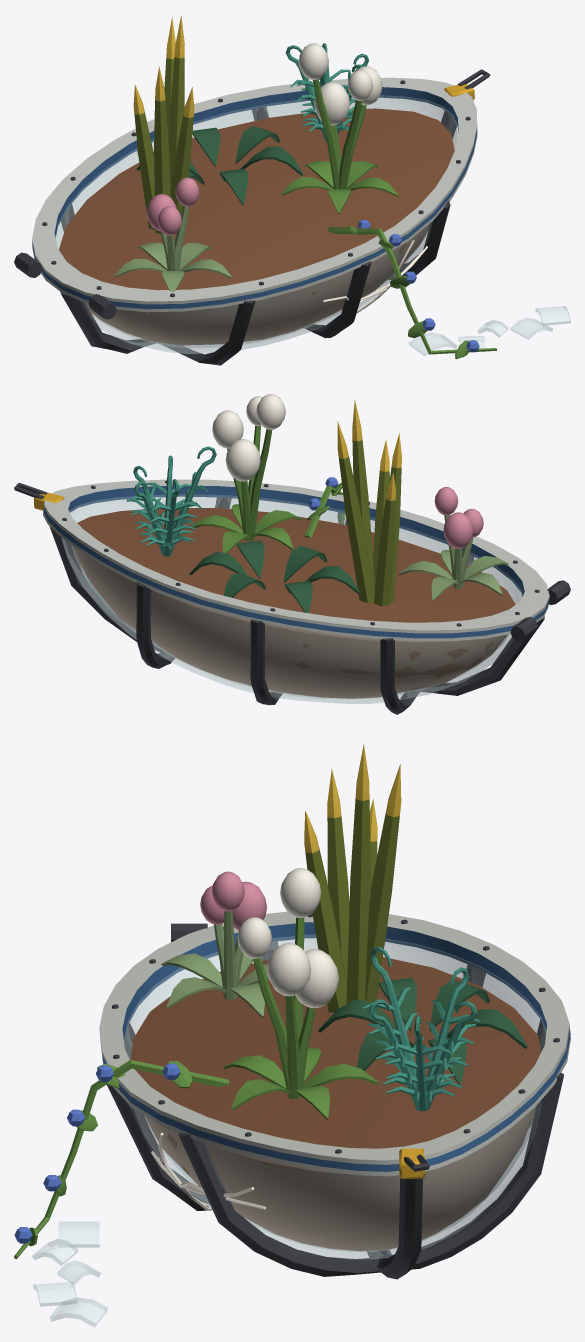
Rendered from deco_salvage_canopy_planter.fbx.
3 renders of one model, top to bottom at view 1: azimuth 30°, elevation 25°; view 2: azimuth 150°, elevation 25°; view 3: azimuth 270°, elevation 25°, orthographic. The views are drawn at different scales.
Parts seen in each view (by area): view 1: Salvage_CanopyPlanter_Soil, Salvage_CanopyPlanter_Frame, Salvage_CanopyPlanter_Plants, Salvage_CanopyPlanter_Glass; view 2: Salvage_CanopyPlanter_Soil, Salvage_CanopyPlanter_Glass, Salvage_CanopyPlanter_Frame, Salvage_CanopyPlanter_Plants; view 3: Salvage_CanopyPlanter_Soil, Salvage_CanopyPlanter_Plants, Salvage_CanopyPlanter_Frame, Salvage_CanopyPlanter_Glass.
Boxes of the visible parts, <box> form: Salvage_CanopyPlanter_Soil: <box>59,108,454,345</box>; Salvage_CanopyPlanter_Frame: <box>14,69,490,365</box>; Salvage_CanopyPlanter_Plants: <box>114,15,496,359</box>; Salvage_CanopyPlanter_Glass: <box>56,95,570,355</box>; Salvage_CanopyPlanter_Soil: <box>73,508,515,698</box>; Salvage_CanopyPlanter_Glass: <box>61,494,522,703</box>; Salvage_CanopyPlanter_Frame: <box>14,479,570,714</box>; Salvage_CanopyPlanter_Plants: <box>126,394,508,613</box>; Salvage_CanopyPlanter_Soil: <box>131,957,541,1251</box>; Salvage_CanopyPlanter_Plants: <box>14,744,527,1259</box>; Salvage_CanopyPlanter_Frame: <box>99,901,570,1279</box>; Salvage_CanopyPlanter_Glass: <box>32,935,545,1327</box>.
Size of the model in its own units: 298 by 171 by 212.
